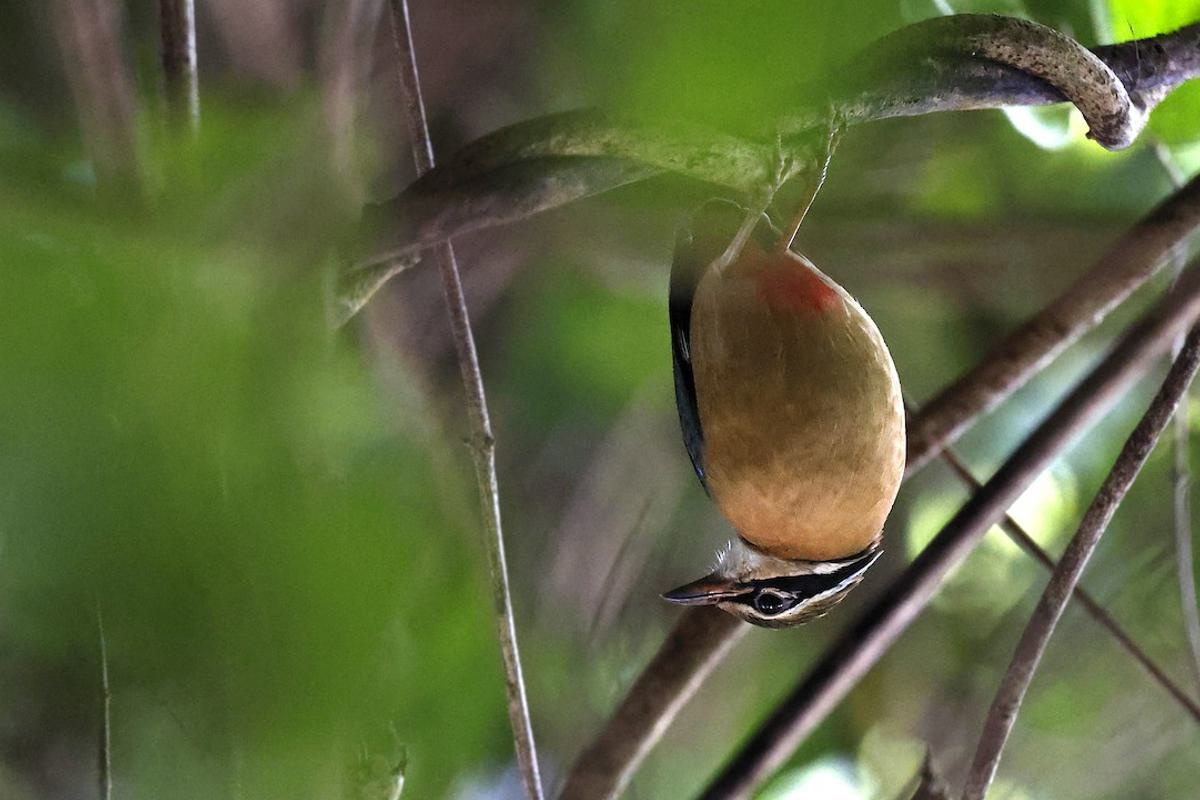pitta: (601, 133, 930, 638)
